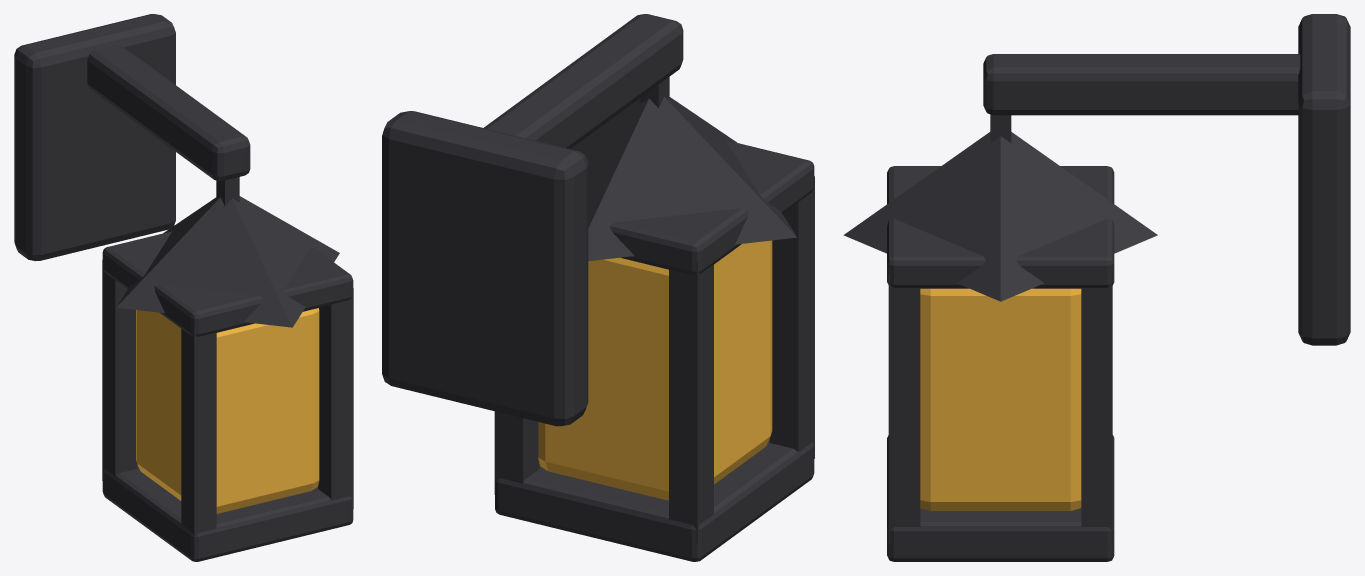
File: lantern.glb
3 views of the same model, side by side, from view 1: azimuth 30°, elevation 25°; view 2: azimuth 150°, elevation 25°; view 3: azimuth 270°, elevation 25° (orthographic). The views are drawn at different scales.
Visible parts, largest first — view 1: lantern, glow-lantern; view 2: lantern, glow-lantern; view 3: lantern, glow-lantern.
Part boxes in pixels (<box>): lantern: <box>14,14,353,561</box>; glow-lantern: <box>136,308,319,513</box>; lantern: <box>382,14,814,561</box>; glow-lantern: <box>538,240,772,500</box>; lantern: <box>843,14,1350,561</box>; glow-lantern: <box>920,288,1081,510</box>.
Size of the model in its own units: 0.18 by 0.2925 by 0.29.
Materials: 1 (1 with a texture image).
